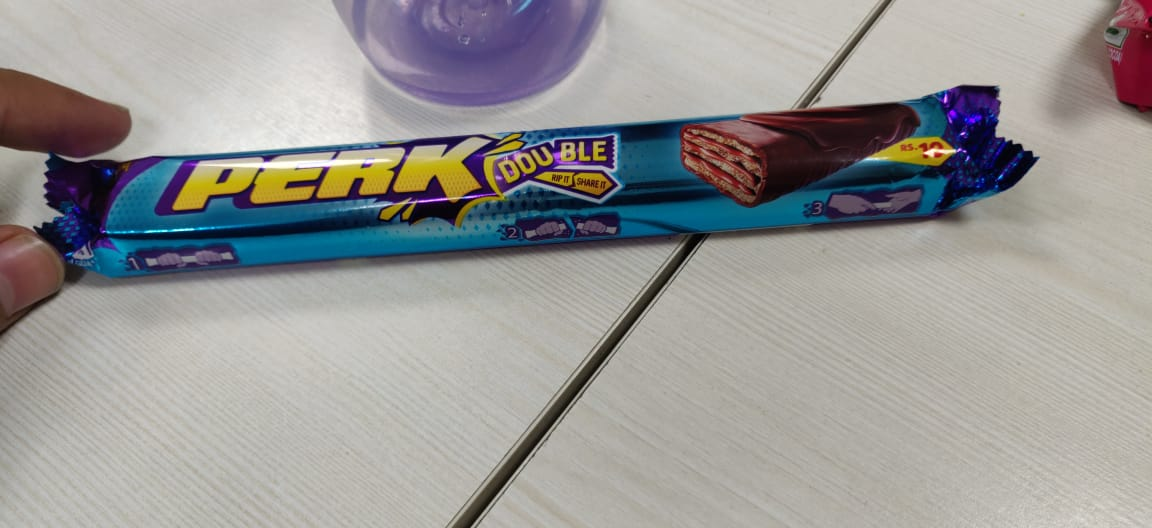perk: (33, 76, 1046, 289)
